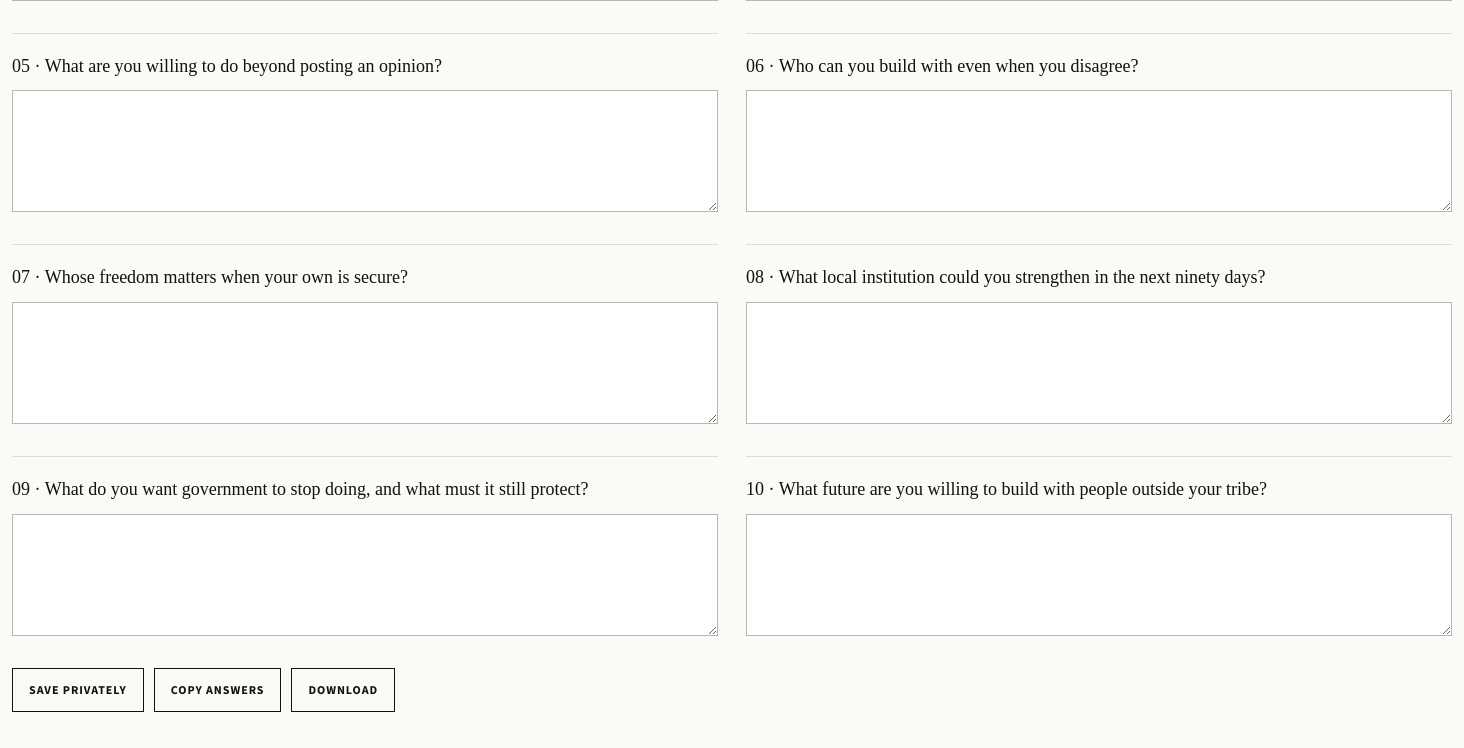
FieldGuideResponses › downloads a .txt file
(page scrolled)
Click the button "Download" at {"x": 343, "y": 690}, box [292,668,395,712]
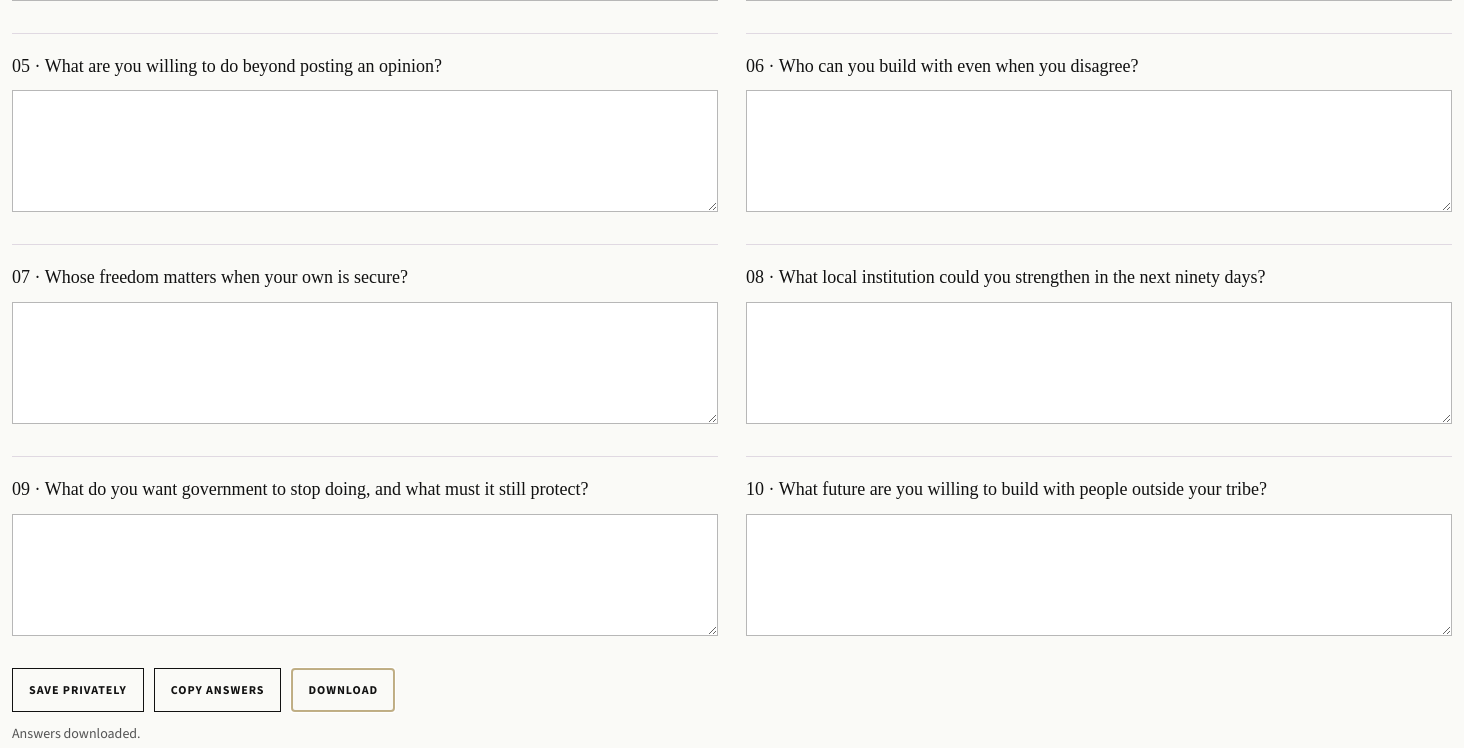
Check: the message reads "Answers downloaded.", box [12,724,141,743]
